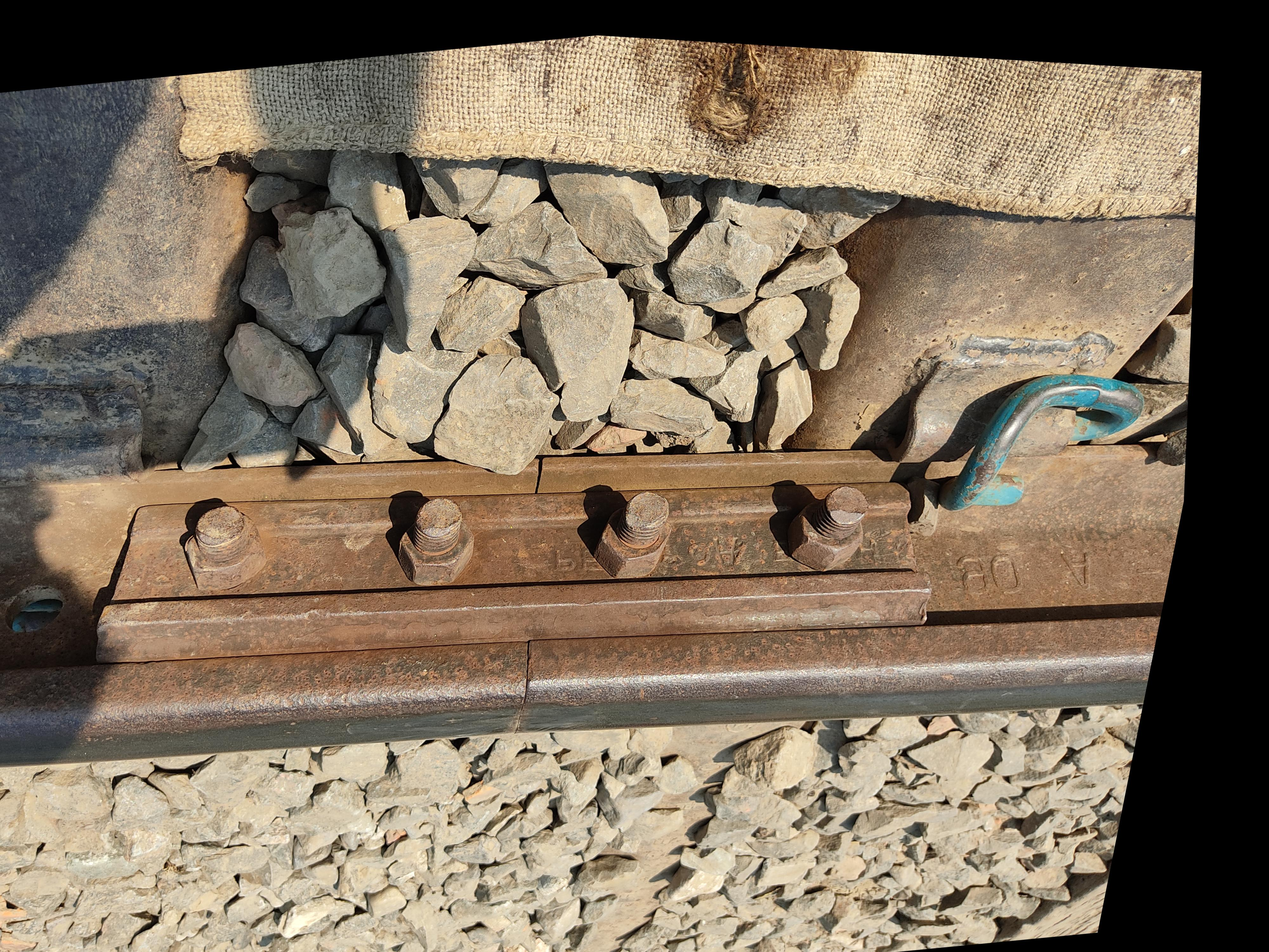person: (196, 816, 286, 905), (210, 726, 278, 782)
